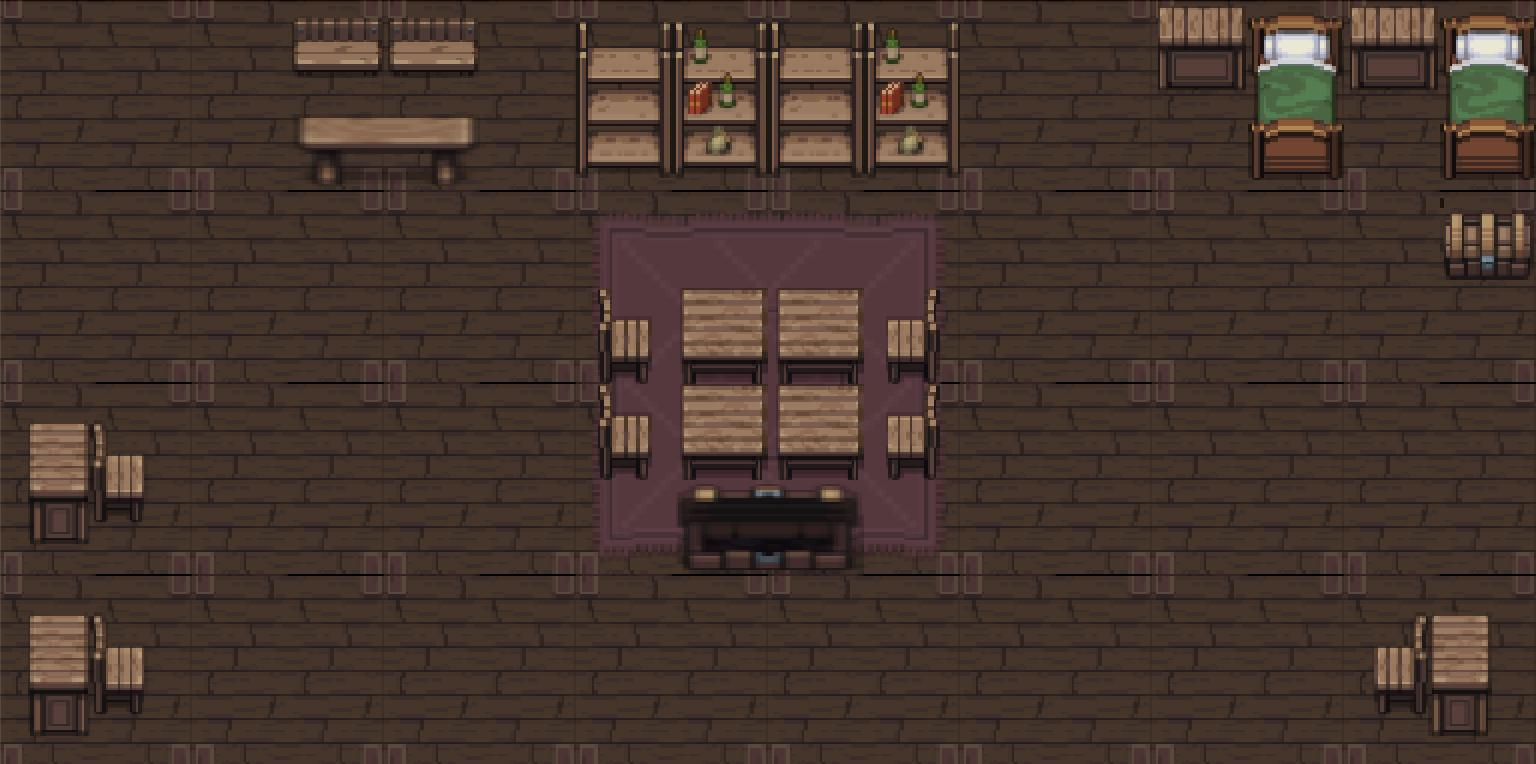Hide: (1246, 0, 1344, 182), (675, 479, 861, 574), (1438, 197, 1536, 292)
Obstacle: (676, 286, 867, 479), (21, 415, 152, 548), (21, 609, 152, 742), (1374, 602, 1504, 735), (574, 20, 673, 181), (674, 20, 770, 181), (770, 20, 866, 181), (867, 20, 962, 181), (292, 110, 478, 188), (1348, 3, 1441, 98), (1156, 2, 1246, 98), (591, 284, 664, 383), (592, 382, 663, 482), (875, 287, 946, 386), (286, 15, 387, 81), (384, 15, 484, 81), (880, 386, 949, 480)
